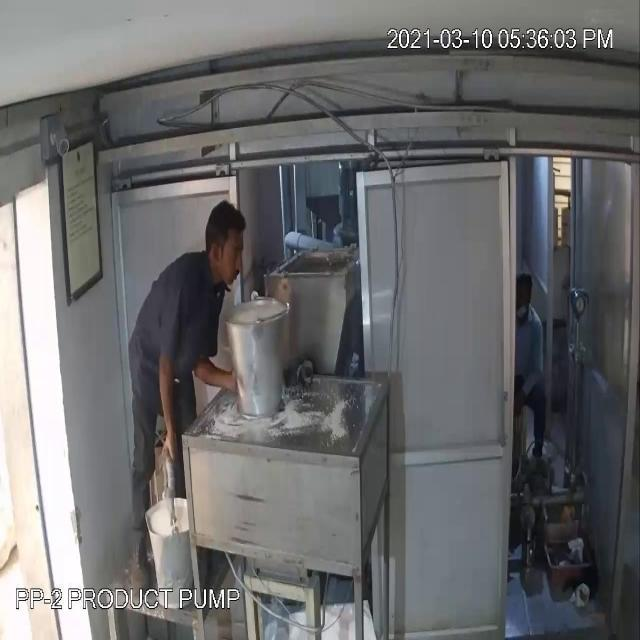No_Gloves: (35, 78, 217, 402)
